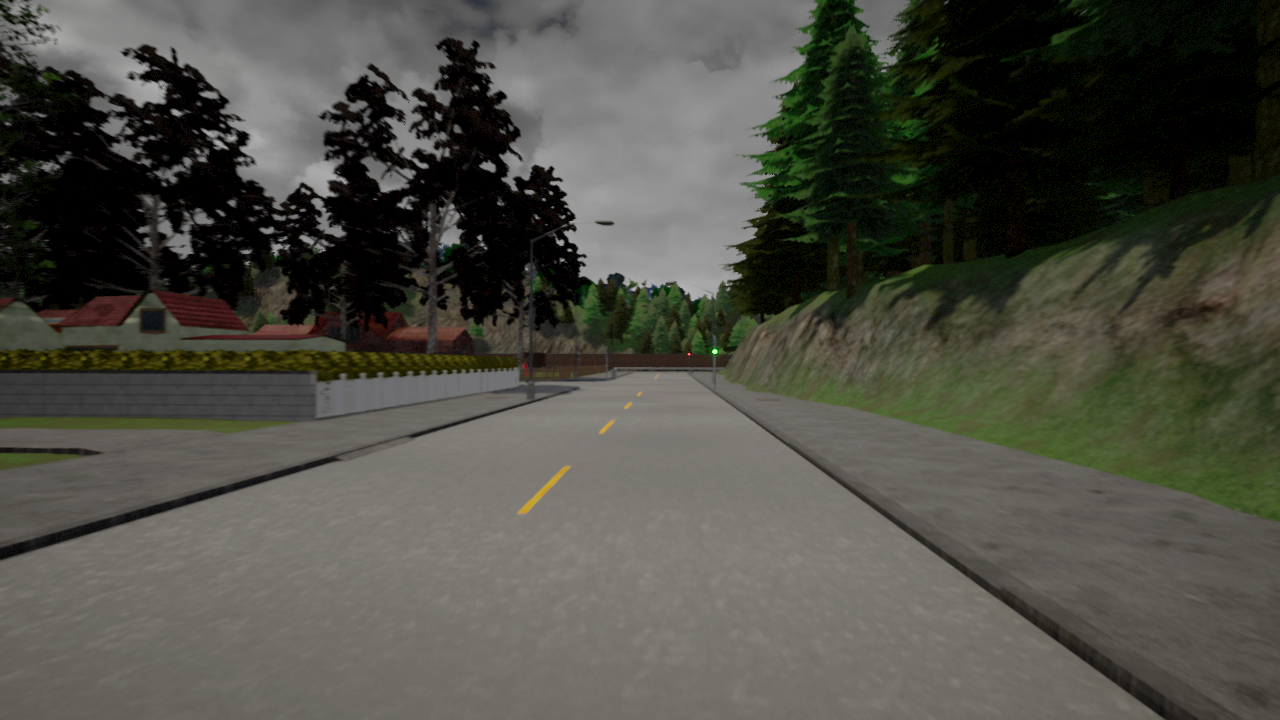green: (711, 341, 719, 355)
